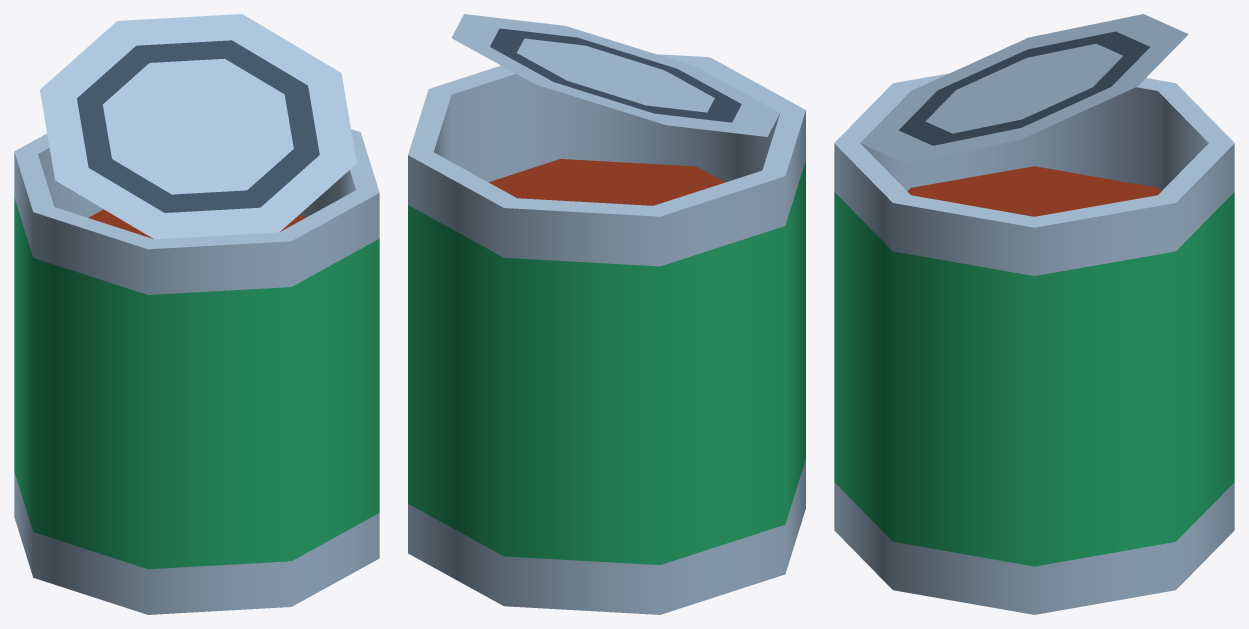
The model's file is canOpen.obj.
3 renders of one model, left to right at view 1: azimuth 30°, elevation 25°; view 2: azimuth 150°, elevation 25°; view 3: azimuth 270°, elevation 25°, orthographic. The views are drawn at different scales.
Visible parts, largest first — view 1: canOpen; view 2: canOpen; view 3: canOpen.
Part boxes in pixels (x1,y1,x2,y2): canOpen: (14, 14, 379, 614); canOpen: (408, 14, 805, 614); canOpen: (834, 14, 1234, 614).
Size of the model in its own units: 0.3 by 0.4071 by 0.3.
